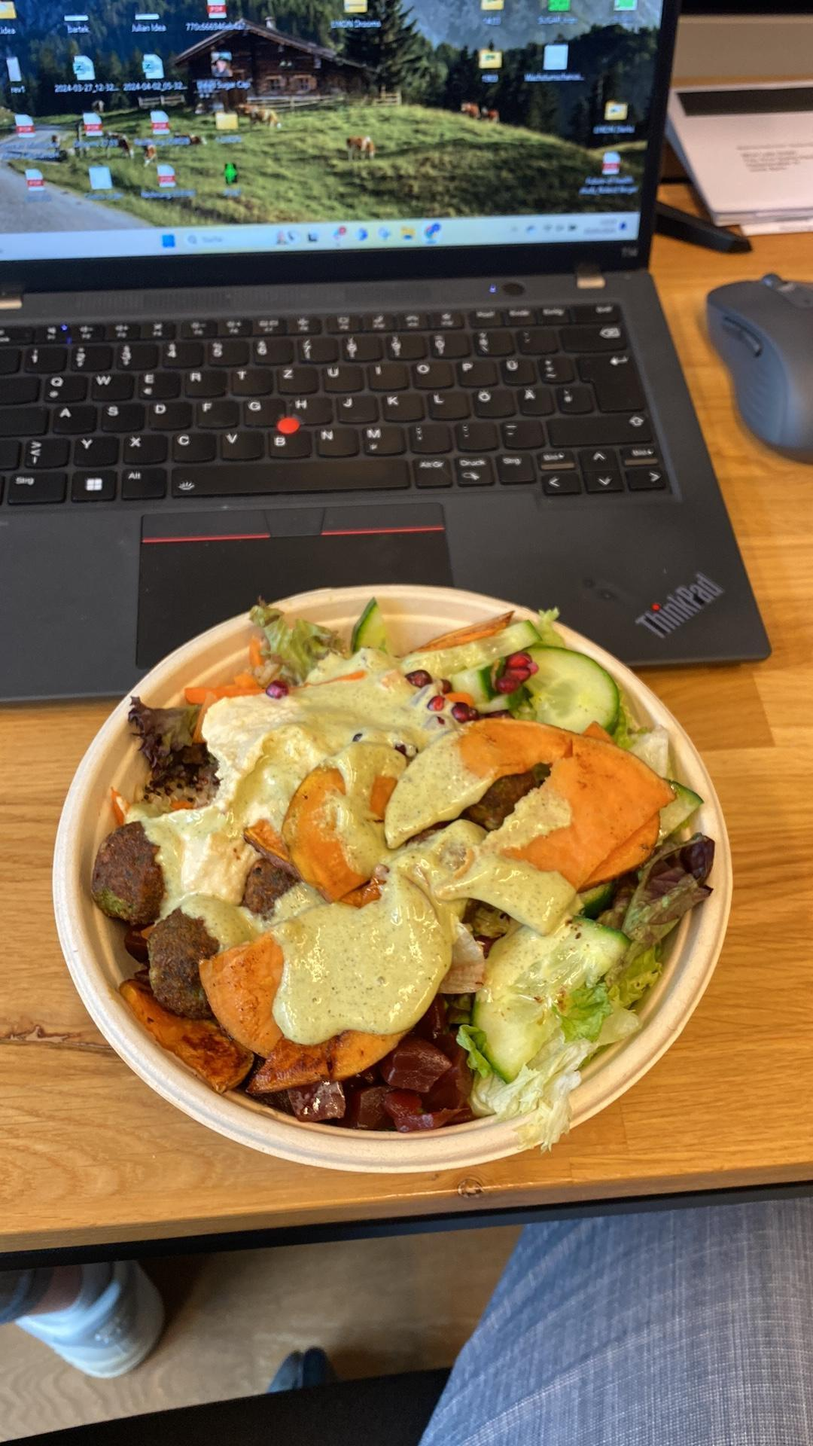cucumber: (462, 909, 626, 1080), (510, 638, 625, 741), (399, 621, 541, 673), (656, 771, 703, 838), (350, 596, 394, 652)
lettuce: (445, 1015, 585, 1139), (615, 828, 714, 1001), (128, 689, 213, 799), (251, 594, 345, 680)
potato: (454, 722, 676, 910), (201, 929, 405, 1077), (385, 712, 589, 842), (285, 740, 432, 898), (119, 961, 257, 1093), (578, 812, 661, 887), (403, 609, 517, 656)
